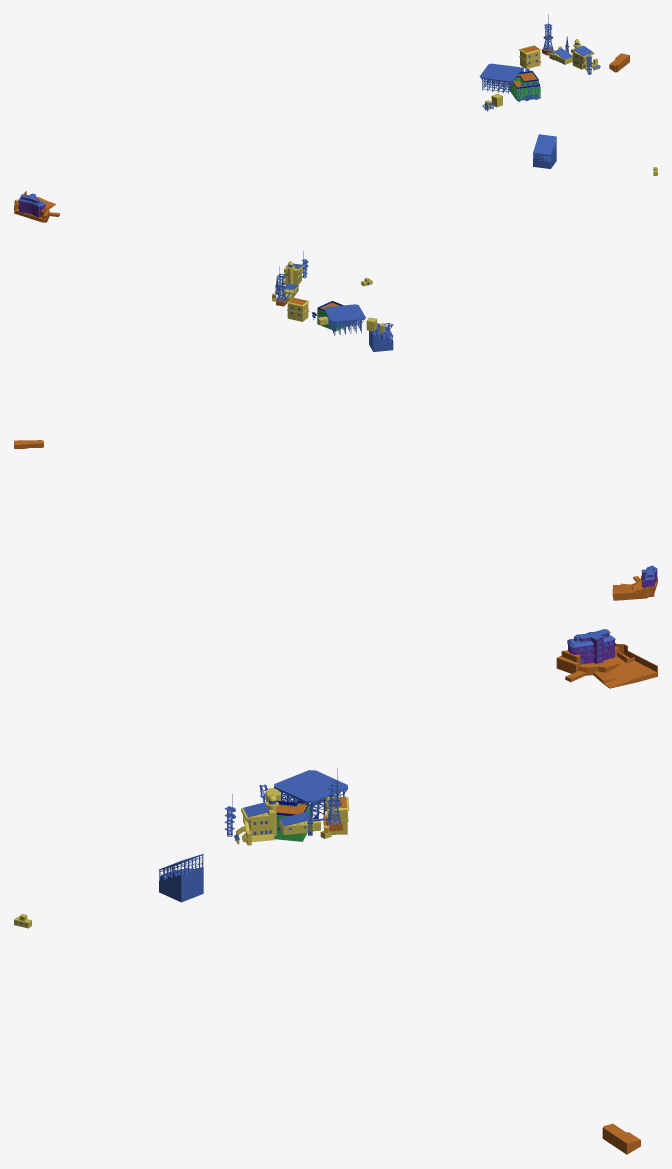
File: Dokdo_Buildings.FBX
3 renders of one model, top to bottom at view 1: azimuth 30°, elevation 25°; view 2: azimuth 150°, elevation 25°; view 3: azimuth 270°, elevation 25°, orthographic. The views are drawn at different scales.
Visible parts, largest first — view 1: Dokdo_Buildings; view 2: Dokdo_Buildings; view 3: Dokdo_Buildings.
Part boxes in pixels (<box>): Dokdo_Buildings: <box>14,14,657,222</box>; Dokdo_Buildings: <box>14,251,657,600</box>; Dokdo_Buildings: <box>14,629,657,1154</box>.
Bounding box in the file's own units: 515 × 122 × 283.
